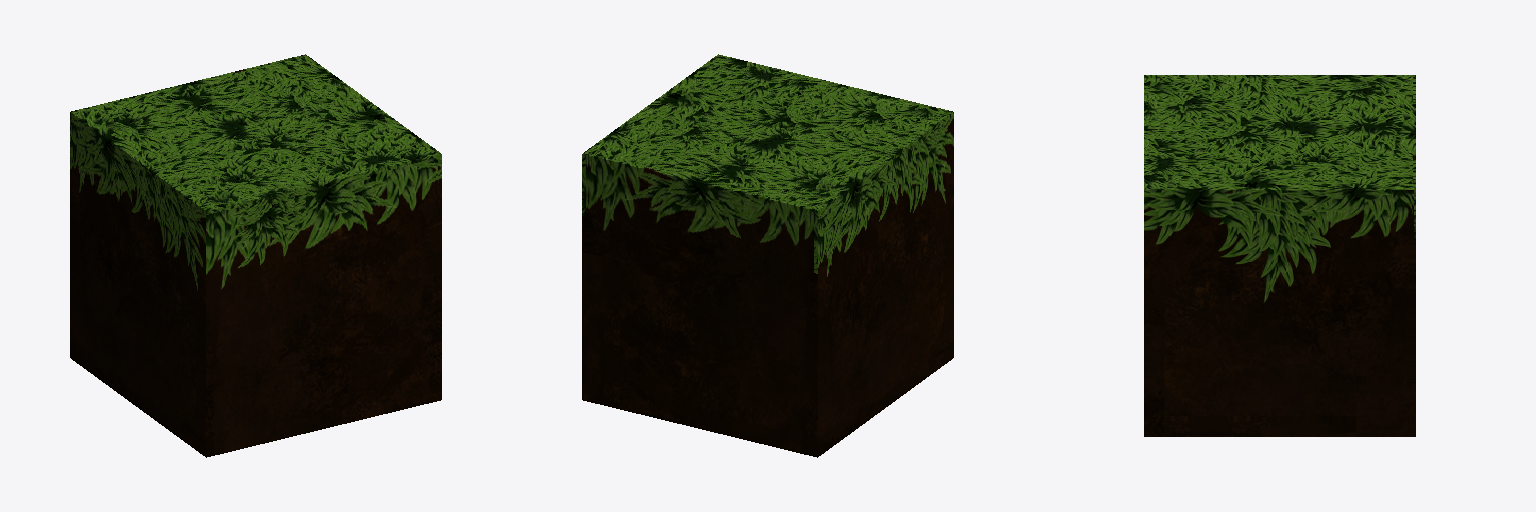
The picture shows the model from 3 angles: view 1: azimuth 30°, elevation 25°; view 2: azimuth 150°, elevation 25°; view 3: azimuth 270°, elevation 25°; orthographic projection.
Parts seen in each view (by area): view 1: Cube; view 2: Cube; view 3: Cube.
Boxes of the visible parts, x1=… form: Cube: x1=70, y1=54, x2=441, y2=457; Cube: x1=582, y1=54, x2=953, y2=457; Cube: x1=1144, y1=75, x2=1415, y2=436.
Size of the model in its own units: 1 by 1 by 1.
Materials: 1 (1 with a texture image).